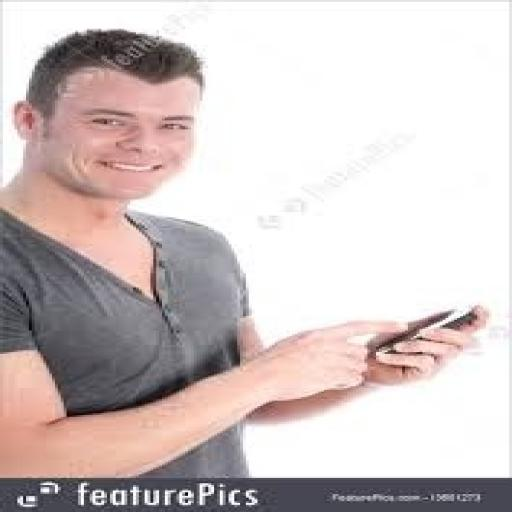texting: (0, 27, 492, 478)
